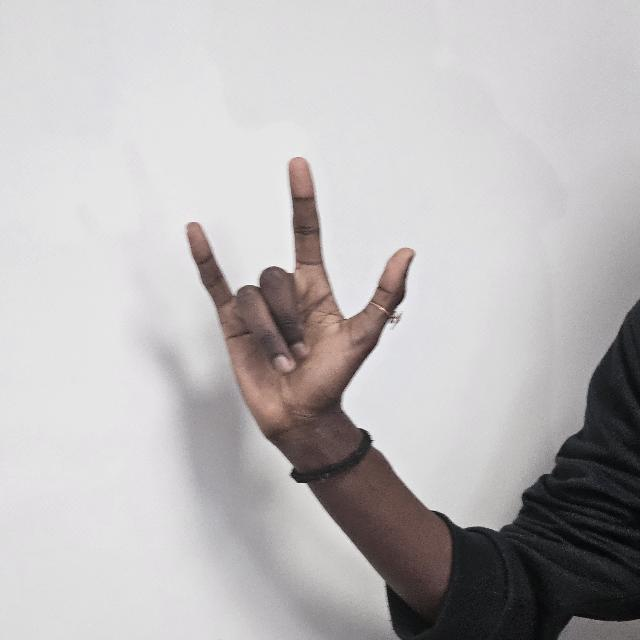Cima: (189, 155, 413, 459)
